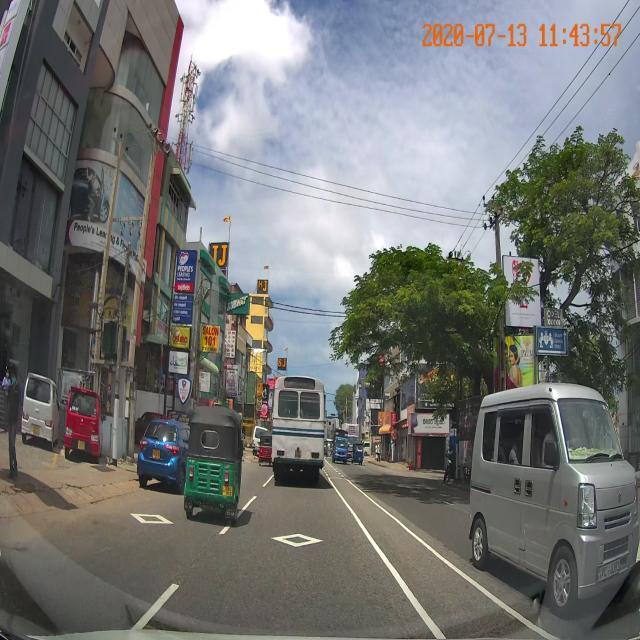diamond: (175, 522, 404, 575)
